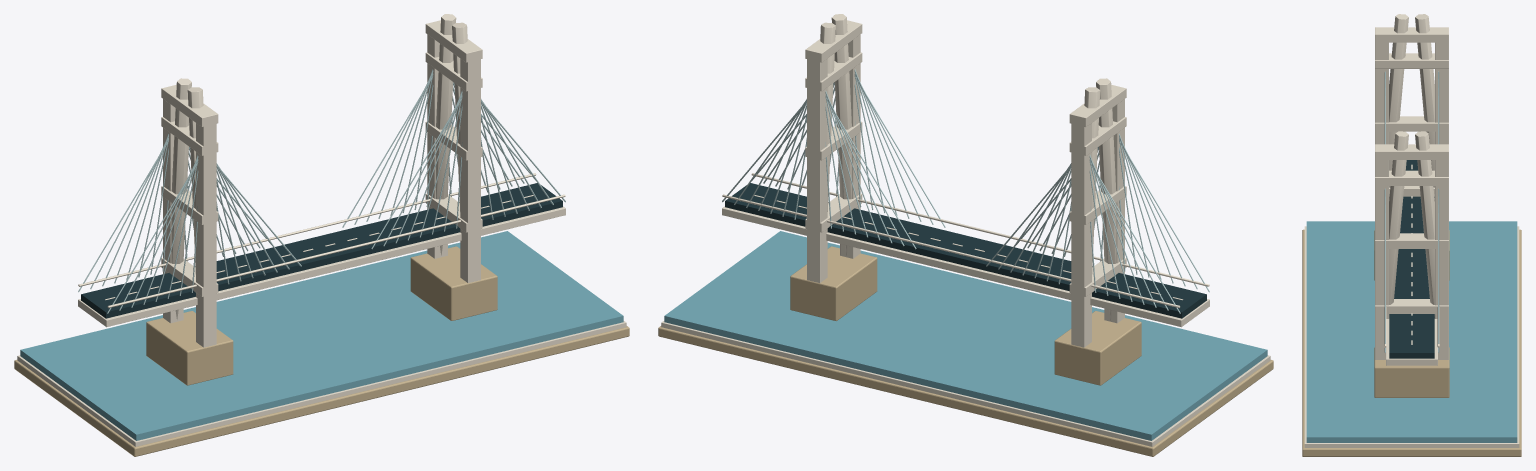
File: russky_bridge.glb
The picture shows the model from 3 angles, left to right: view 1: azimuth 30°, elevation 25°; view 2: azimuth 150°, elevation 25°; view 3: azimuth 270°, elevation 25°; orthographic projection. The views are drawn at different scales.
Parts seen in each view (by area): view 1: russky_bridge_glass, russky_bridge_ivory, russky_bridge_stone, russky_bridge_silver, russky_bridge_ink; view 2: russky_bridge_glass, russky_bridge_ivory, russky_bridge_stone, russky_bridge_silver, russky_bridge_ink; view 3: russky_bridge_glass, russky_bridge_ivory, russky_bridge_stone, russky_bridge_ink, russky_bridge_silver.
Part boxes in pixels (x1,y1,x2,y2): russky_bridge_glass: (20, 231, 623, 440); russky_bridge_ivory: (17, 14, 626, 446); russky_bridge_stone: (14, 246, 629, 456); russky_bridge_silver: (78, 69, 565, 313); russky_bridge_ink: (81, 183, 562, 318); russky_bridge_glass: (664, 231, 1267, 440); russky_bridge_ivory: (661, 14, 1270, 446); russky_bridge_stone: (658, 246, 1273, 456); russky_bridge_silver: (722, 69, 1209, 313); russky_bridge_ink: (725, 183, 1206, 318); russky_bridge_glass: (1306, 221, 1517, 442); russky_bridge_ivory: (1304, 14, 1519, 447); russky_bridge_stone: (1302, 229, 1521, 456); russky_bridge_ink: (1389, 160, 1434, 358); russky_bridge_silver: (1384, 71, 1439, 352).
Size of the model in its own units: 9 by 5.21 by 3.8.
